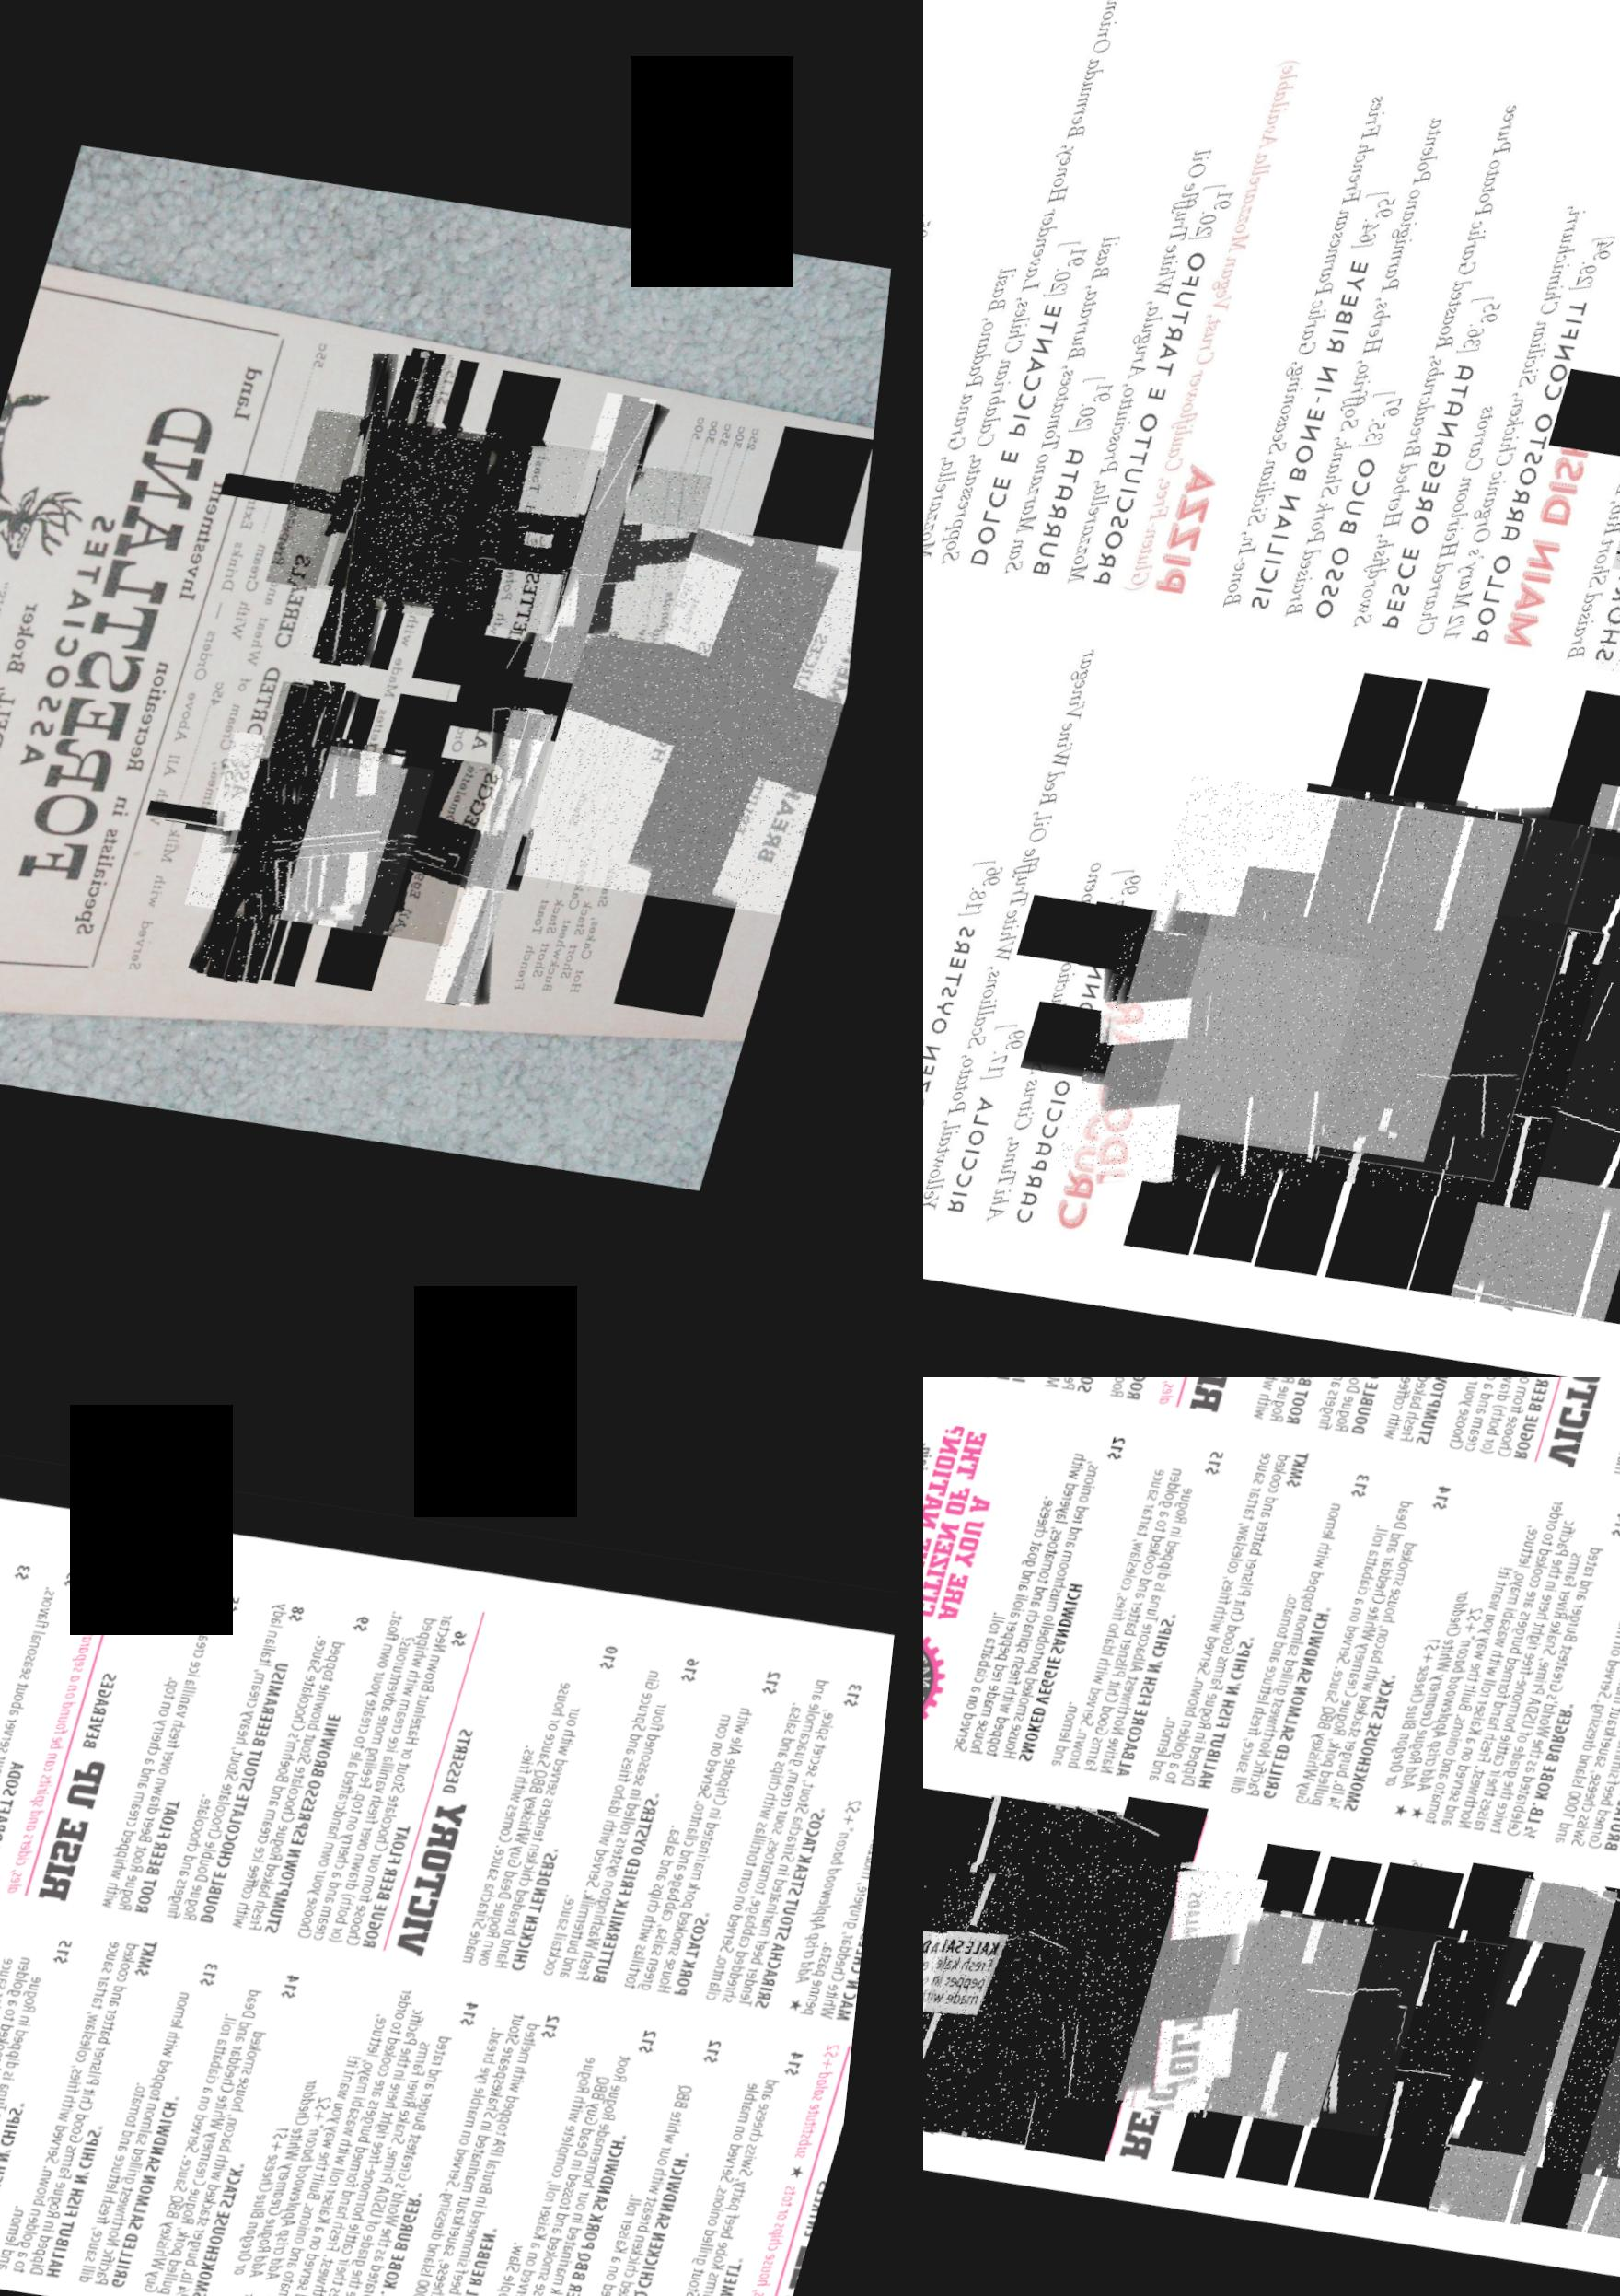Menu-Items: (1180, 768, 1620, 1199), (1124, 768, 1555, 1181), (924, 0, 1180, 582), (529, 514, 878, 932), (947, 634, 1168, 1229), (1357, 82, 1576, 647), (1297, 74, 1508, 636), (1341, 792, 1620, 1213), (1290, 887, 1620, 1227), (1234, 75, 1439, 620), (1431, 158, 1620, 661), (1089, 917, 1403, 1218), (991, 1839, 1299, 2133), (1084, 117, 1269, 598), (1390, 1486, 1620, 1867), (238, 1975, 510, 2296), (1487, 787, 1620, 1337), (1061, 1430, 1255, 1795), (971, 1802, 1169, 2159), (300, 1607, 493, 1972), (961, 1421, 1155, 1777), (1350, 1919, 1615, 2172), (1013, 847, 1180, 1241), (463, 1632, 642, 1998), (710, 1672, 889, 2035), (1208, 1905, 1467, 2152), (1280, 1916, 1538, 2163), (1145, 1896, 1403, 2142), (11, 1938, 188, 2292), (1162, 1451, 1339, 1805), (1308, 1481, 1483, 1837), (551, 1648, 722, 2010), (1019, 209, 1180, 591), (631, 1665, 801, 2019), (1457, 1881, 1620, 2238), (924, 1796, 1091, 2145), (156, 1968, 330, 2296), (238, 1597, 393, 1954), (377, 419, 615, 647), (1248, 1463, 1397, 1814), (105, 1588, 258, 1930), (174, 1595, 324, 1938), (96, 1952, 245, 2296), (288, 736, 517, 957), (417, 2012, 591, 2296), (503, 2026, 684, 2296), (924, 822, 1045, 1220), (198, 727, 423, 939), (274, 405, 498, 617), (508, 449, 726, 657), (237, 741, 451, 946), (1517, 847, 1620, 1269), (664, 2040, 833, 2296), (224, 678, 361, 989), (330, 419, 540, 620), (314, 417, 522, 615), (305, 354, 433, 668), (444, 710, 573, 1013), (223, 743, 426, 936), (533, 396, 664, 691), (600, 2042, 750, 2296), (1480, 1935, 1620, 2207), (342, 354, 461, 671), (0, 1919, 103, 2284), (798, 1691, 903, 2047), (216, 680, 335, 981), (924, 1837, 1062, 2084), (477, 719, 572, 1004), (1580, 196, 1620, 680), (1452, 1378, 1620, 1483), (1569, 1523, 1620, 1868), (924, 1816, 984, 2073), (1389, 1378, 1543, 1465), (924, 177, 959, 554), (1325, 1378, 1476, 1449)
